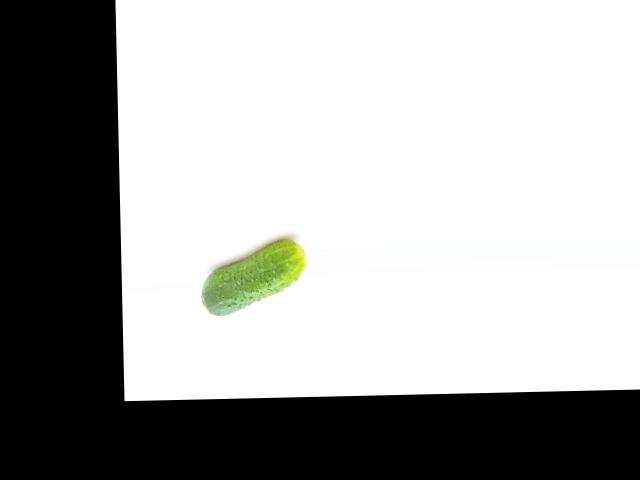cucumber: (200, 239, 307, 316)
